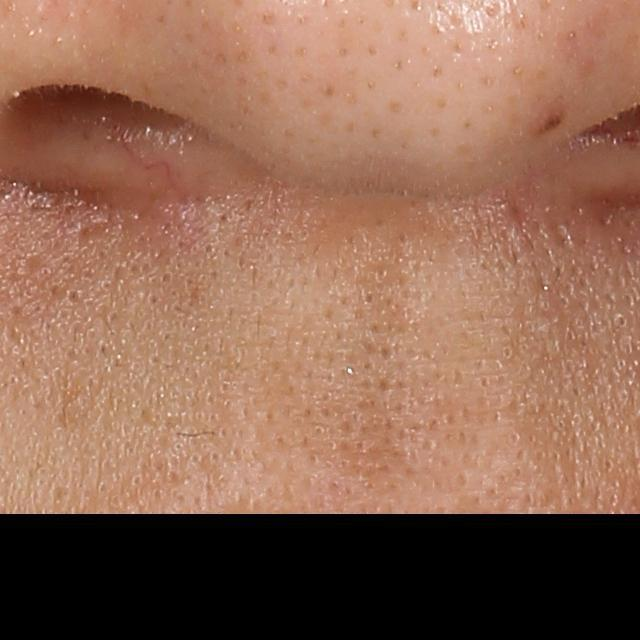comedo: (613, 310, 631, 330)
nevus: (534, 109, 554, 139)
